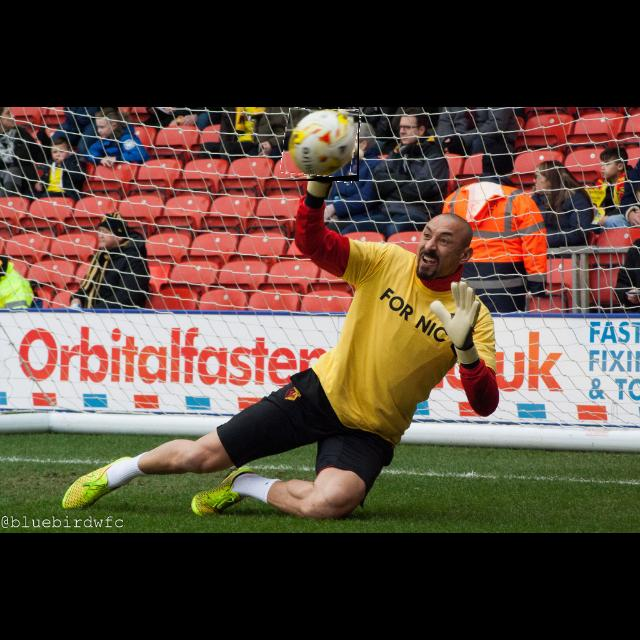Football: (283, 109, 359, 181)
